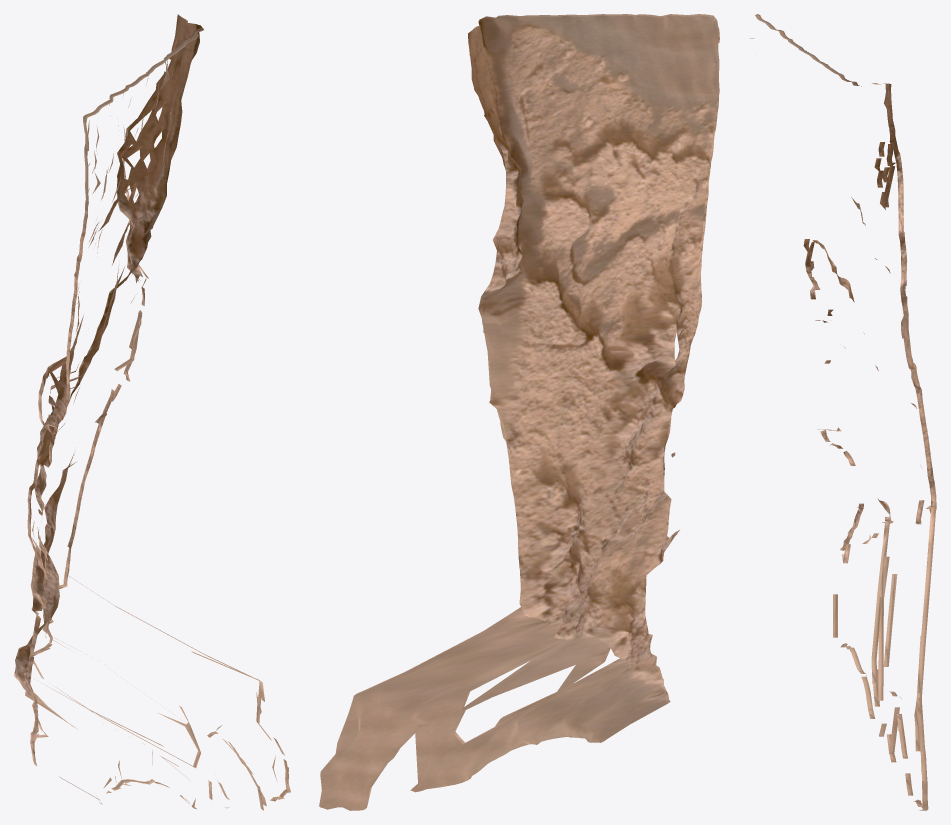
3 renders of one model, left to right at view 1: azimuth 30°, elevation 25°; view 2: azimuth 150°, elevation 25°; view 3: azimuth 270°, elevation 25°, orthographic. The views are drawn at different scales.
Size of the model in its own units: 0.5678 by 1.46 by 0.368.
1 material, 1 textured.
